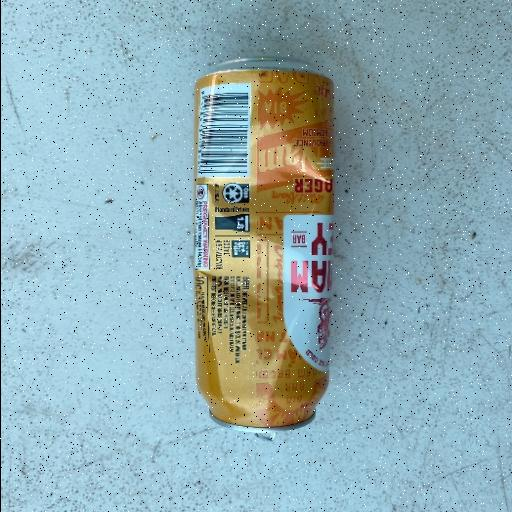Metal: (190, 58, 336, 434)
